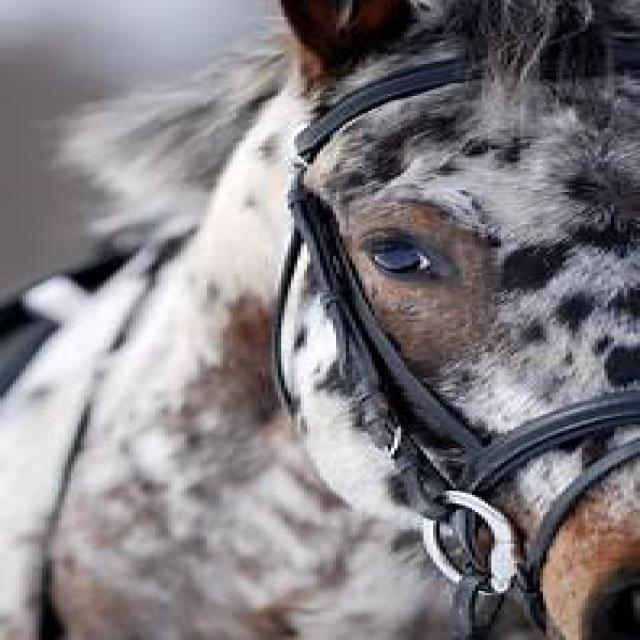horse: (6, 6, 640, 638)
